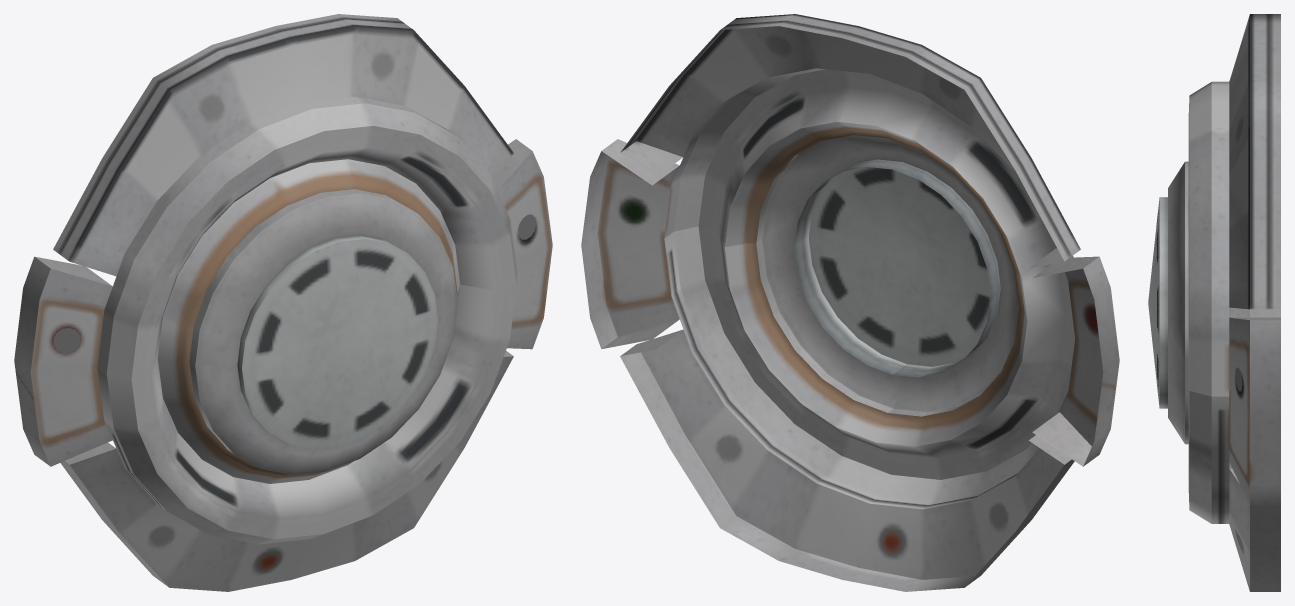
File: Button A1F.fbx
3 views of the same model, side by side, from view 1: azimuth 30°, elevation 25°; view 2: azimuth 150°, elevation 25°; view 3: azimuth 270°, elevation 25° (orthographic). The views are drawn at different scales.
Visible parts, largest first — view 1: Button A1F, ButtonHandle A1F; view 2: Button A1F, ButtonHandle A1F; view 3: Button A1F, ButtonHandle A1F.
Boxes of the visible parts, x1,y1,x2,y2 form: Button A1F: [14, 14, 552, 591]; ButtonHandle A1F: [237, 235, 438, 449]; Button A1F: [581, 14, 1119, 591]; ButtonHandle A1F: [804, 167, 990, 369]; Button A1F: [1168, 14, 1280, 591]; ButtonHandle A1F: [1148, 197, 1167, 408].
Size of the model in its own units: 16.97 by 16.83 by 3.99.
3 materials, 1 textured.
